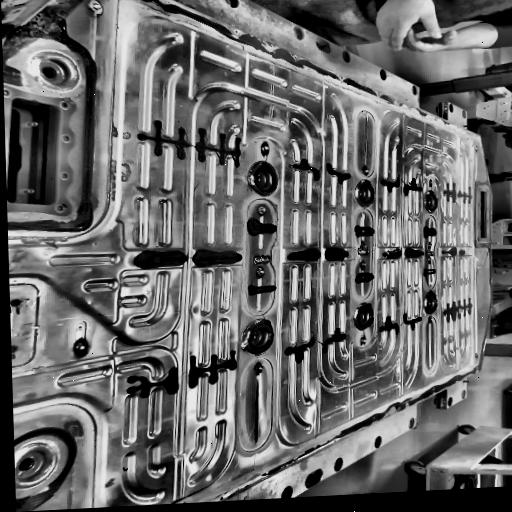b_casing: (1, 0, 493, 512)
